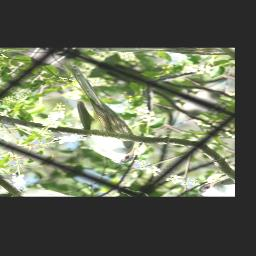Cuckoo: (0, 61, 195, 172)
